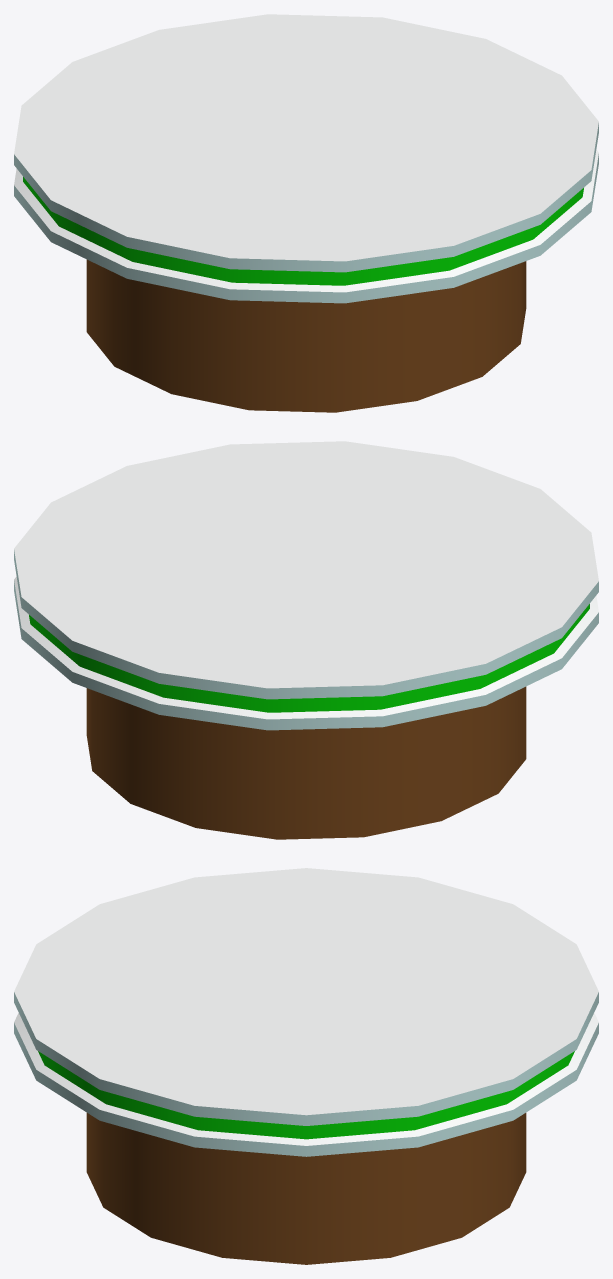
Rendered from NF_Floor_Table_A.fbx.
3 renders of one model, top to bottom at view 1: azimuth 30°, elevation 25°; view 2: azimuth 150°, elevation 25°; view 3: azimuth 270°, elevation 25°, orthographic.
Parts seen in each view (by area): view 1: NF_Floor_Table_A; view 2: NF_Floor_Table_A; view 3: NF_Floor_Table_A.
Part boxes in pixels (x1,y1,x2,y2): NF_Floor_Table_A: (14, 14, 598, 412); NF_Floor_Table_A: (14, 441, 598, 839); NF_Floor_Table_A: (14, 868, 598, 1264).
Bounding box in the file's own units: 1.91 × 0.65 × 1.91.
1 material, 1 textured.
